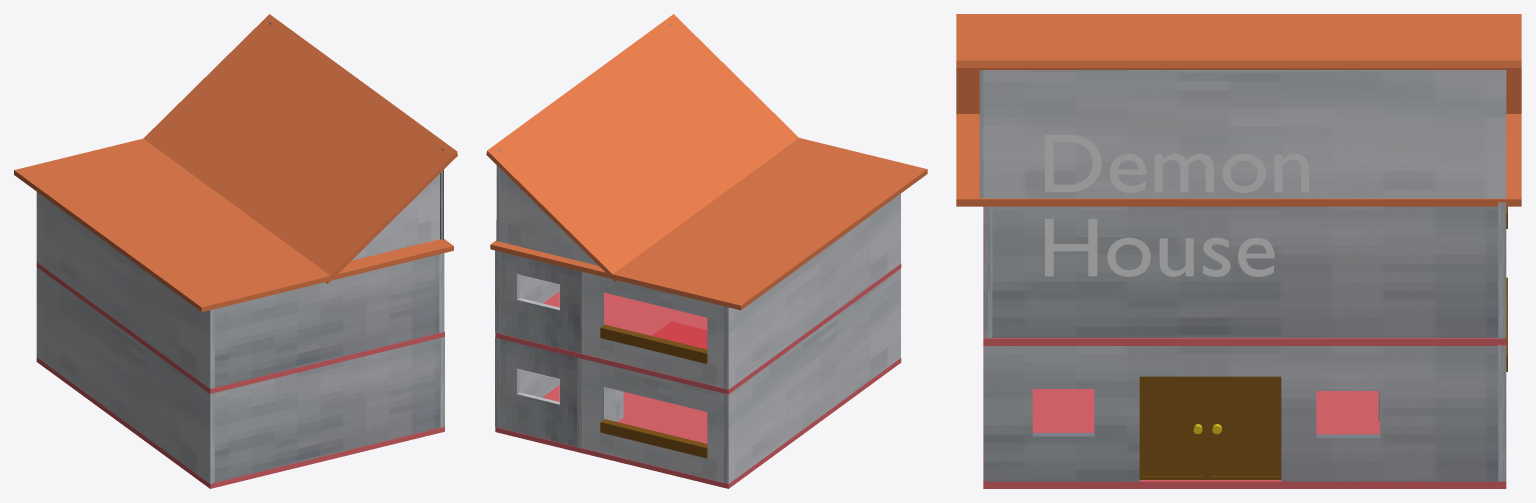
File: demonhouse.glb
The picture shows the model from 3 angles, left to right: view 1: azimuth 30°, elevation 25°; view 2: azimuth 150°, elevation 25°; view 3: azimuth 270°, elevation 25°; orthographic projection. The views are drawn at different scales.
Parts seen in each view (by area): view 1: Roof, Ceiling.001, Back_Wall, Back_Wall.001, Left_Wall, Left_Wall.001, Floor.001, Floor; view 2: Roof, Ceiling.001, Left_Wall, Left_Wall.001, Bedroom_Wall_Outer, Bedroom_Wall_Outer.001, B-Wall, B-Wall.001, Floor, Floor.001, Bedroom_Windowsil, Bedroom_Windowsil.001 (+4 smaller); view 3: Roof, Left_Wall.002, Entry_Wall, Ceiling.001, DemonDoor, Floor, Text, Floor.001, B-Wall, B-Wall.001, Back_Wall.001.
Part boxes in pixels (left/top/right/bottom): Roof: left=143, top=14, right=457, bottom=283; Ceiling.001: left=14, top=138, right=453, bottom=312; Back_Wall: left=215, top=338, right=439, bottom=482; Back_Wall.001: left=215, top=253, right=444, bottom=387; Left_Wall: left=36, top=267, right=214, bottom=483; Left_Wall.001: left=36, top=192, right=214, bottom=388; Floor.001: left=36, top=262, right=444, bottom=393; Floor: left=36, top=357, right=444, bottom=488; Roof: left=486, top=14, right=798, bottom=282; Ceiling.001: left=490, top=138, right=927, bottom=310; Left_Wall: left=724, top=268, right=900, bottom=484; Left_Wall.001: left=724, top=193, right=900, bottom=389; Bedroom_Wall_Outer: left=581, top=359, right=723, bottom=482; Bedroom_Wall_Outer.001: left=581, top=271, right=723, bottom=388; B-Wall: left=495, top=337, right=581, bottom=447; B-Wall.001: left=495, top=250, right=581, bottom=353; Floor: left=495, top=358, right=901, bottom=488; Floor.001: left=495, top=263, right=901, bottom=394; Bedroom_Windowsil: left=600, top=419, right=707, bottom=458; Bedroom_Windowsil.001: left=600, top=324, right=707, bottom=363; Roof: left=956, top=60, right=1521, bottom=198; Left_Wall.002: left=983, top=206, right=1498, bottom=337; Entry_Wall: left=983, top=346, right=1498, bottom=481; Ceiling.001: left=956, top=14, right=1521, bottom=206; DemonDoor: left=1139, top=376, right=1281, bottom=479; Floor: left=983, top=346, right=1506, bottom=488; Text: left=1045, top=135, right=1308, bottom=276; Floor.001: left=983, top=207, right=1506, bottom=345; B-Wall: left=1498, top=345, right=1506, bottom=481; B-Wall.001: left=1498, top=202, right=1506, bottom=338; Back_Wall.001: left=984, top=206, right=992, bottom=338.
Size of the model in its own units: 28.98 by 30.74 by 36.55.
Materials: 24 (14 with a texture image).
